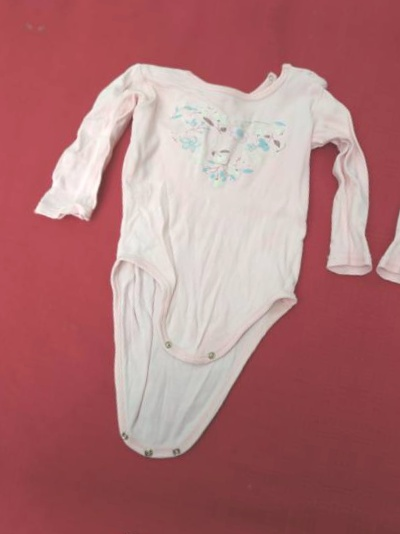Body: (0, 13, 400, 479), (347, 74, 400, 534), (0, 0, 25, 417), (0, 517, 315, 534), (61, 0, 400, 8)
